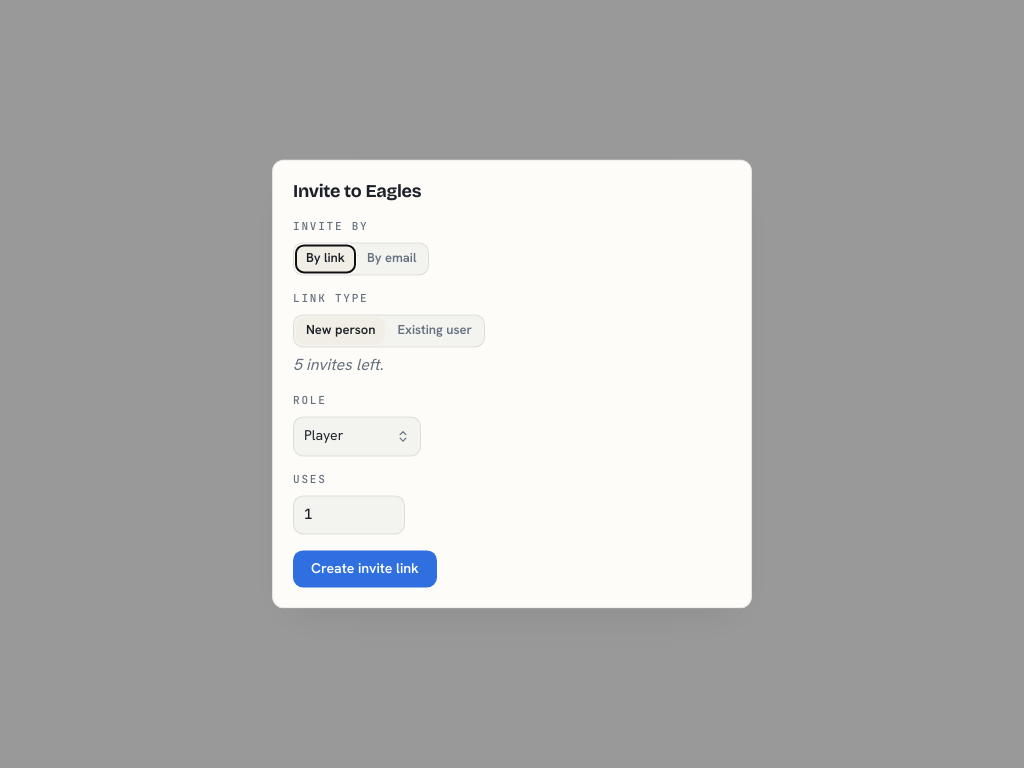
it: InviteDialog, By link › mints a link for the chosen number of uses, spending a slot each
Step 1. Replace the text in the number field named "How many people may use the link" with "5" → (349, 515), box 293,495 -> 405,534
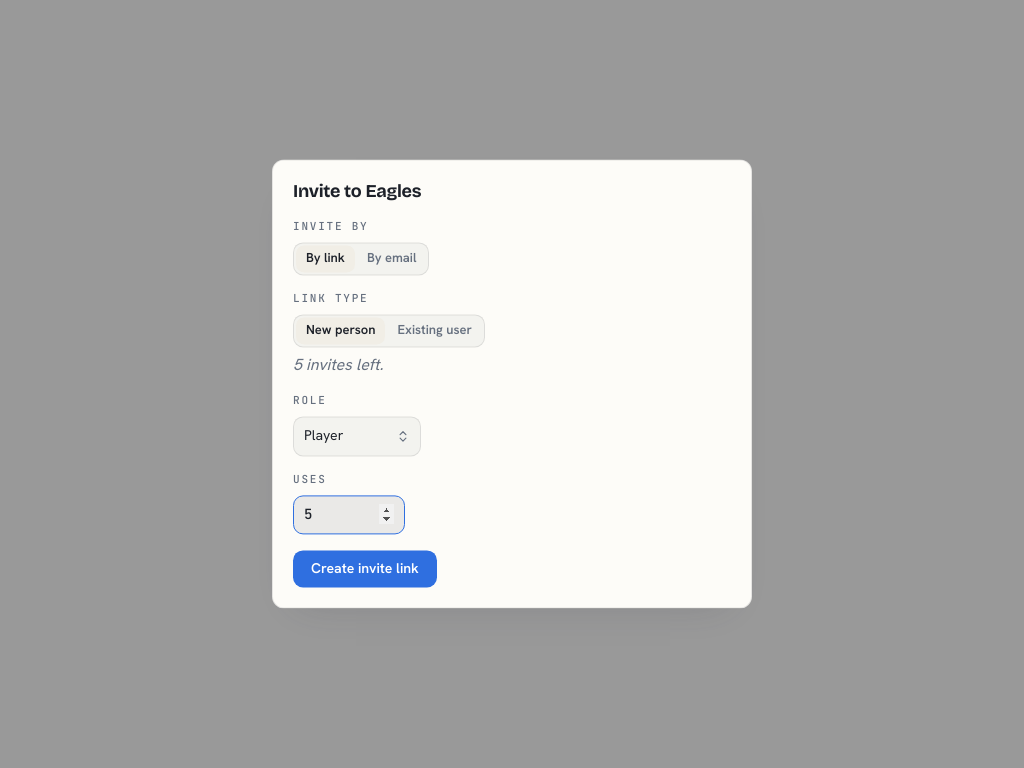
Step 2. Click the button "Create invite link" → (365, 569), box 293,550 -> 437,588
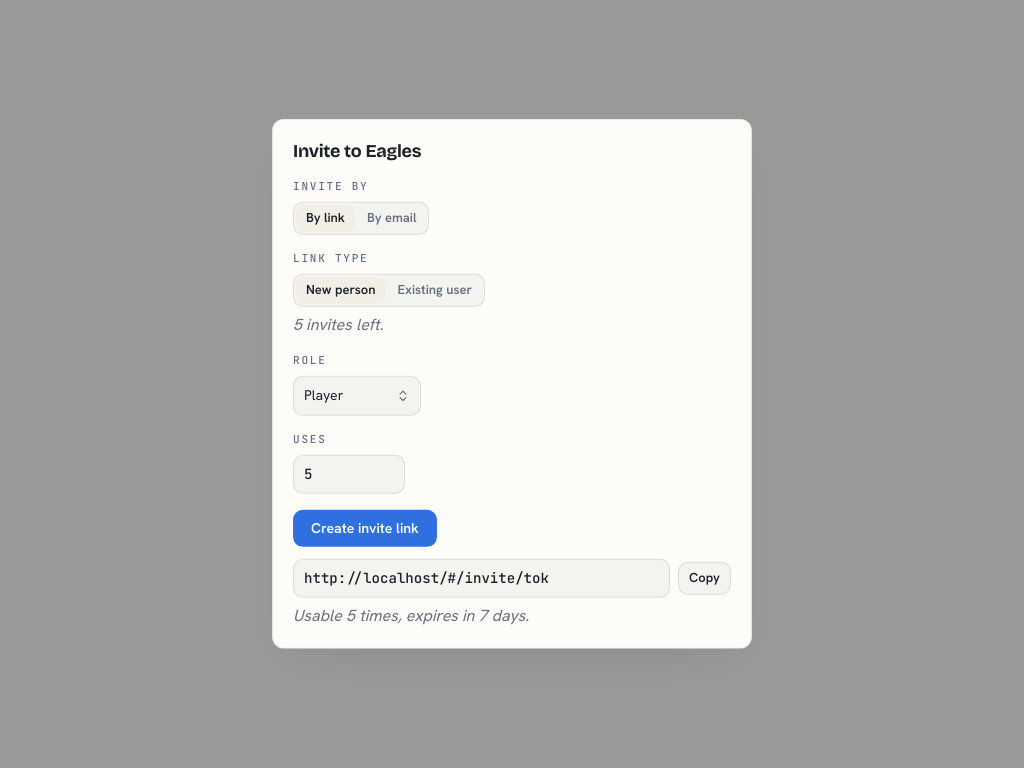
expect the text "Usable 5 times, expires in 7 days." is shown: met, box 293,605 -> 529,626
